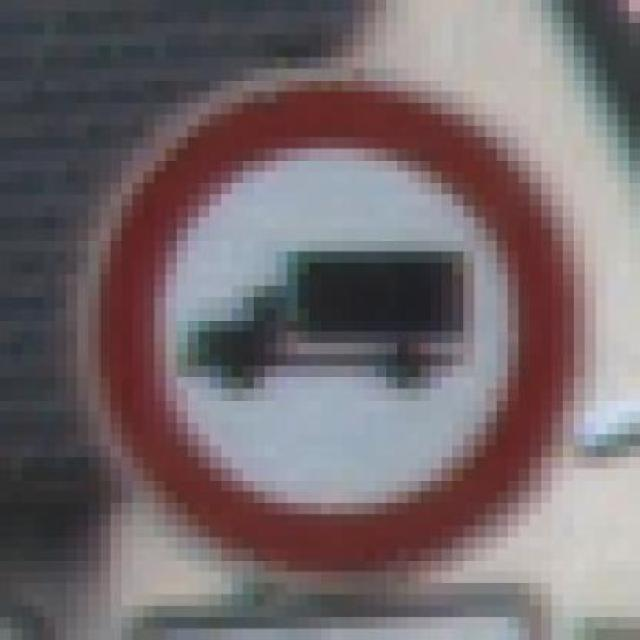Truck traffic is prohibited: (55, 68, 596, 594)
